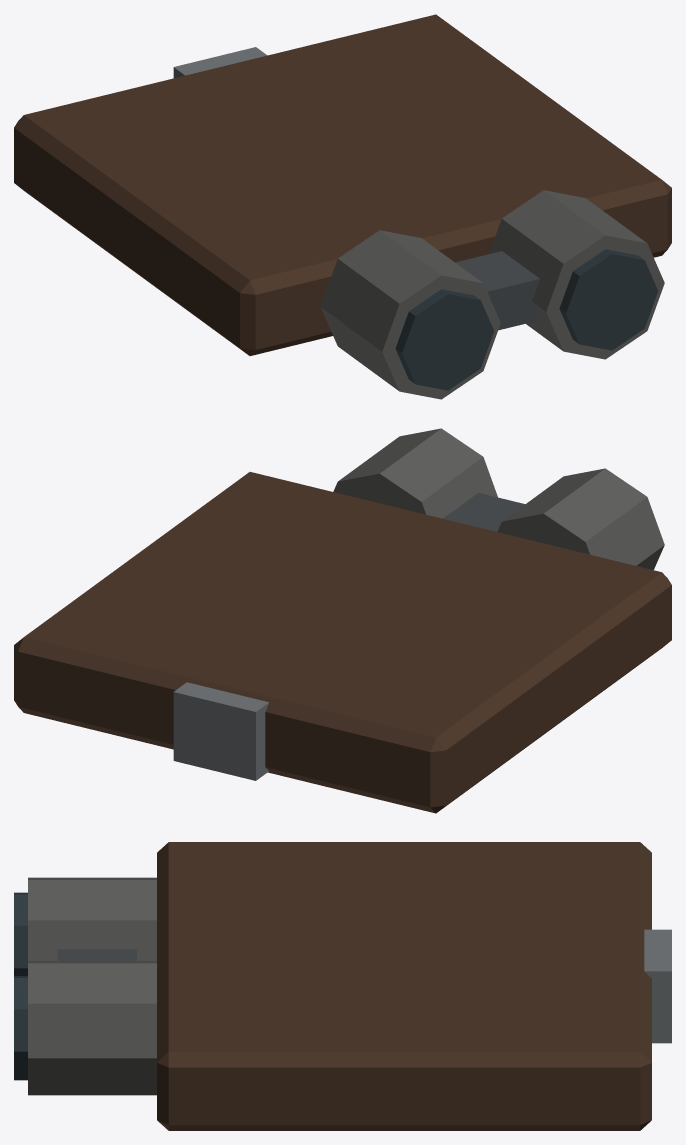
The model's file is item_goggles.glb.
3 views of the same model, one above another, from view 1: azimuth 30°, elevation 25°; view 2: azimuth 150°, elevation 25°; view 3: azimuth 270°, elevation 25° (orthographic). The views are drawn at different scales.
Parts seen in each view (by area): view 1: goggles; view 2: goggles; view 3: goggles.
Part boxes in pixels (x1,y1,x2,y2): goggles: (14,14,671,399); goggles: (14,428,671,813); goggles: (14,842,671,1130).
Size of the model in its own units: 0.2622 by 0.072 by 0.3316.
